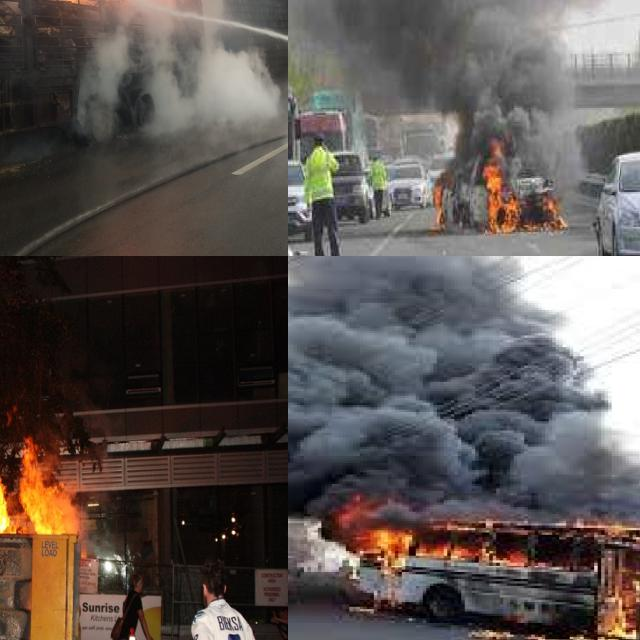fire: (325, 482, 503, 618), (524, 516, 640, 640), (433, 136, 563, 243), (0, 354, 70, 538)
smoke: (288, 256, 640, 523), (288, 0, 632, 178), (74, 0, 282, 143)
